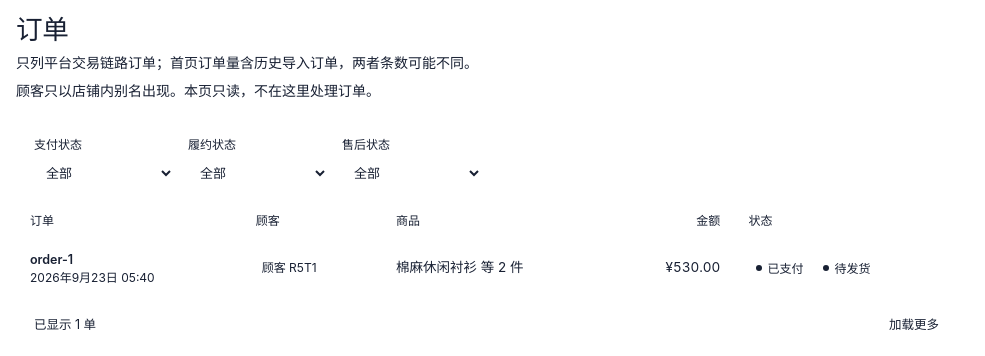
Test: OrdersView › 翻页中途换筛选：旧筛选的「加载更多」响应晚到也不会追加到新列表
Click the button with test id "orders-load-more". click: (914,325)
box: [878,310,950,340]
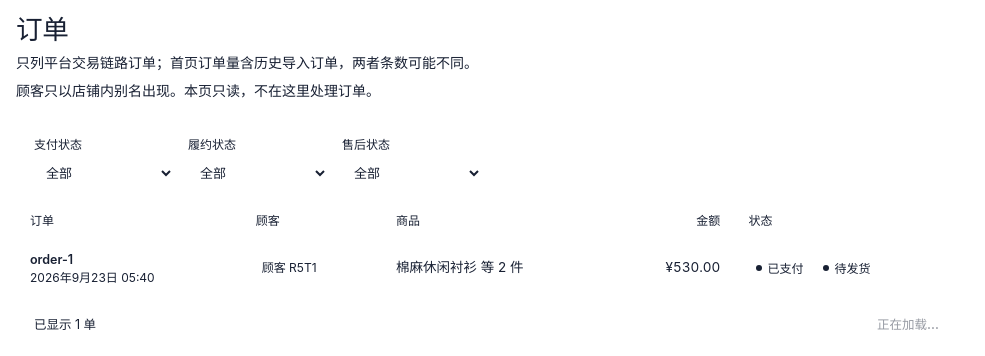
Select "待支付" in the dropdown with test id "filter-payment". click: (104,173)
box: [34,157,174,189]
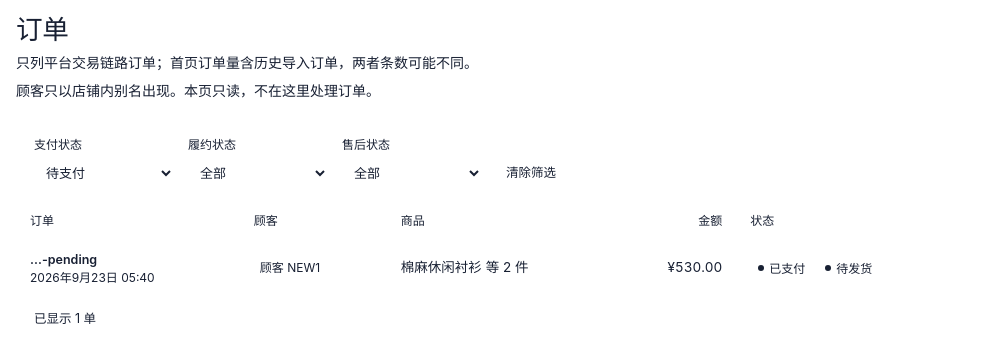
Expected: the number of rows with test id "order-row" is 1, [16,239,968,298]
Now the row with test id "order-row" shows "顾客 NEW1", box [260,260,320,276]
